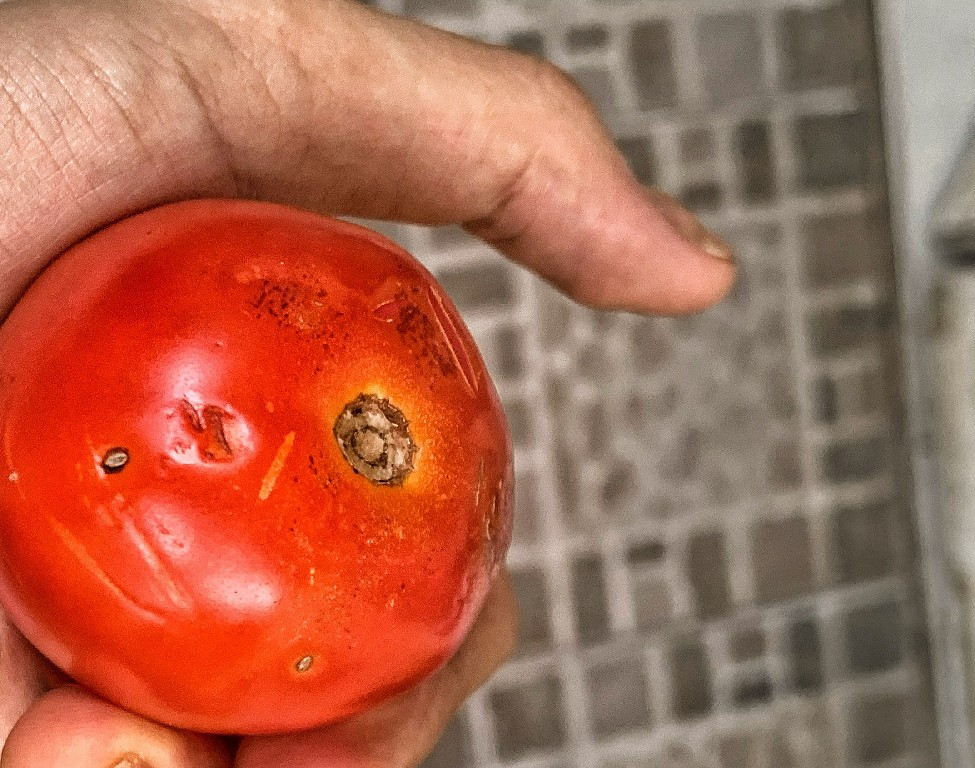NG: (0, 196, 507, 740)
